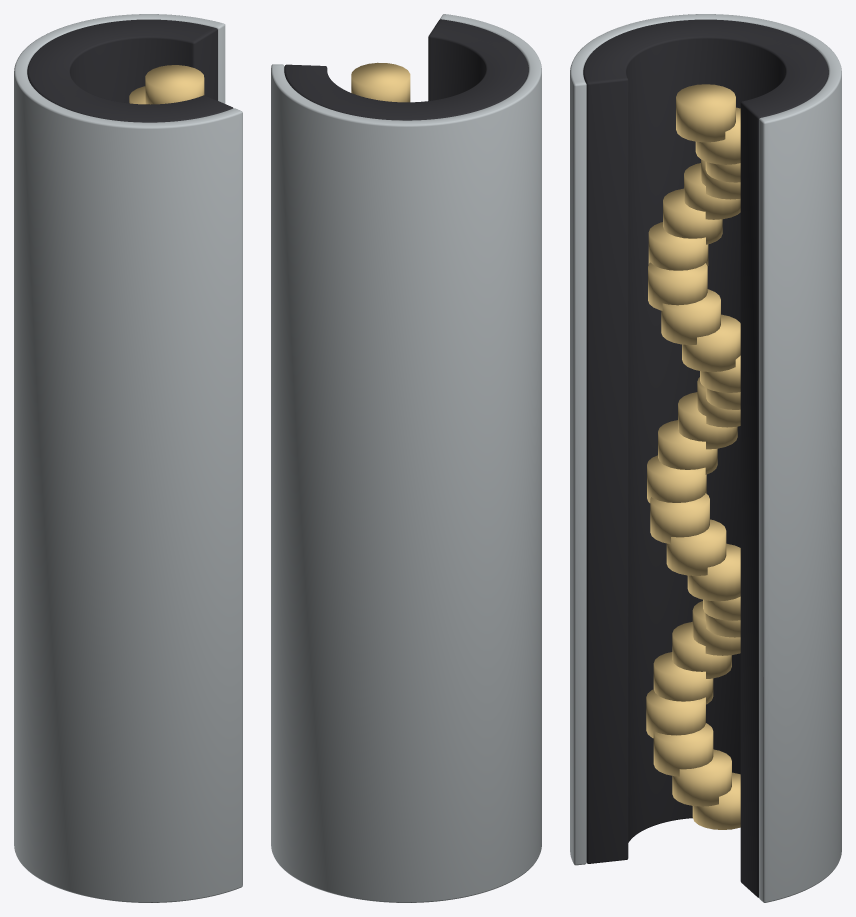
Rendered from pcp.glb.
3 views of the same model, side by side, from view 1: azimuth 30°, elevation 25°; view 2: azimuth 150°, elevation 25°; view 3: azimuth 270°, elevation 25° (orthographic).
Visible parts, largest first — view 1: Steel stator shell, PCP stator, Helical rotor lobe 0; view 2: Steel stator shell, PCP stator, Helical rotor lobe 0; view 3: PCP stator, Steel stator shell, Helical rotor lobe 0, Helical rotor lobe 17, Helical rotor lobe 26, Helical rotor lobe 8, Helical rotor lobe 25, Helical rotor lobe 9, Helical rotor lobe 16, Helical rotor lobe 7, Helical rotor lobe 24, Helical rotor lobe 6 (+18 smaller).
Part boxes in pixels (box(x1,y1,x2,y2)): Steel stator shell: box(14, 14, 242, 902); PCP stator: box(27, 19, 232, 122); Helical rotor lobe 0: box(145, 65, 204, 104); Steel stator shell: box(271, 14, 541, 902); PCP stator: box(284, 19, 528, 120); Helical rotor lobe 0: box(351, 62, 410, 102); PCP stator: box(583, 19, 828, 897); Steel stator shell: box(570, 14, 841, 902); Helical rotor lobe 0: box(676, 84, 735, 142); Helical rotor lobe 17: box(666, 519, 726, 575); Helical rotor lobe 26: box(672, 749, 731, 806); Helical rotor lobe 8: box(661, 289, 720, 344); Helical rotor lobe 25: box(653, 723, 713, 776); Helical rotor lobe 9: box(682, 314, 740, 371); Helical rotor lobe 16: box(650, 493, 709, 544); Helical rotor lobe 7: box(648, 262, 707, 310); Helical rotor lobe 24: box(646, 689, 705, 738); Helical rotor lobe 6: box(648, 222, 708, 270).
Bounding box in the file's own units: 1.56 × 5.2 × 1.64.
